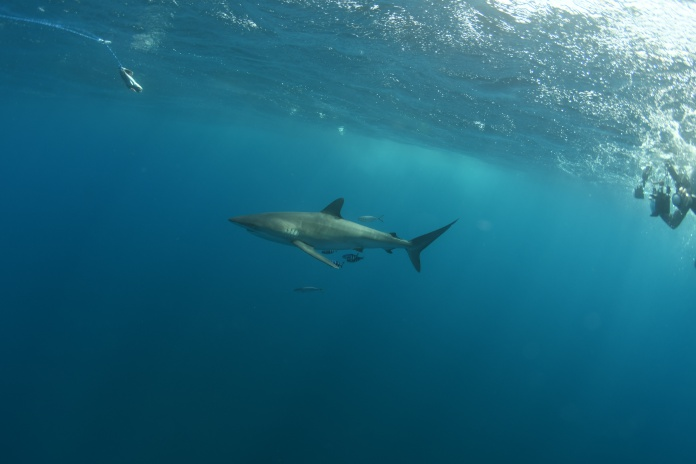Sedoso: (220, 194, 467, 283)
